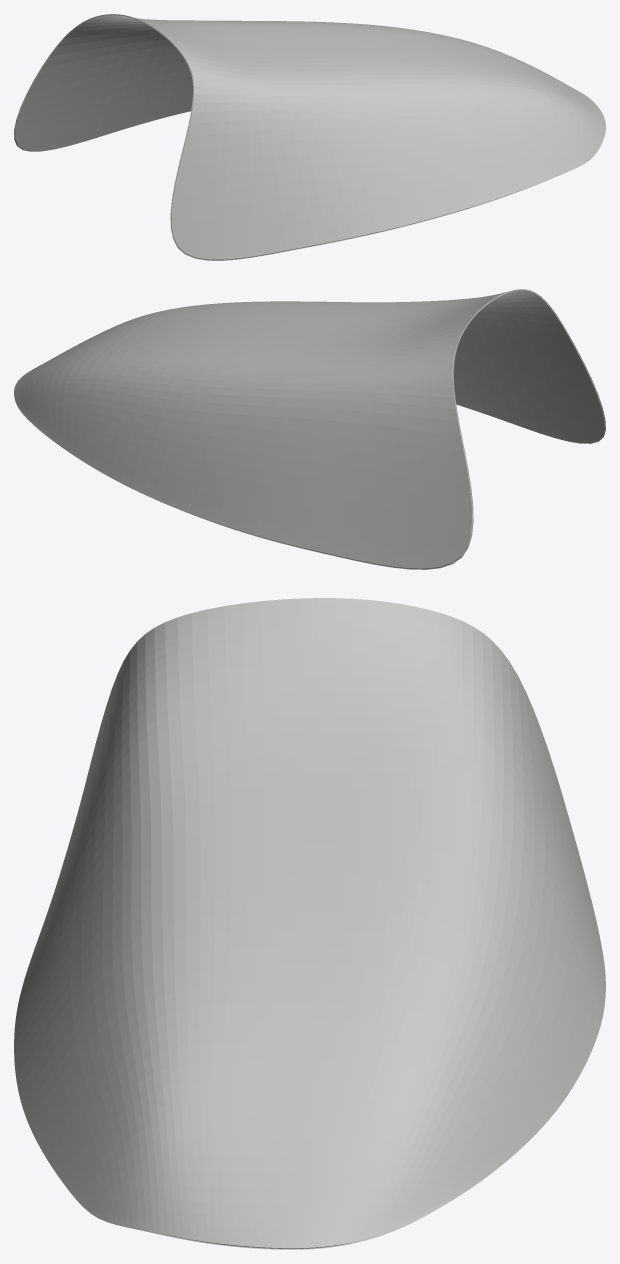
The model's file is frontLeftGrey.obj.
3 views of the same model, one above another, from view 1: azimuth 30°, elevation 25°; view 2: azimuth 150°, elevation 25°; view 3: azimuth 270°, elevation 25° (orthographic). The views are drawn at different scales.
Visible parts, largest first — view 1: Plane; view 2: Plane; view 3: Plane.
Boxes of the visible parts, bbox=[...] form: Plane: bbox=[14, 14, 605, 260]; Plane: bbox=[14, 289, 605, 569]; Plane: bbox=[14, 598, 605, 1249].
Size of the model in its own units: 22.11 by 7.75 by 13.46.
Materials: 1 (1 with a texture image).
